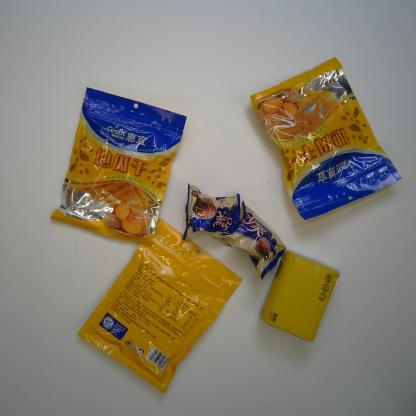Dessert: (223, 200, 287, 281), (181, 183, 240, 248)
Dried Fruit: (76, 217, 243, 395), (249, 56, 403, 221), (48, 87, 188, 248)
Tissue: (258, 247, 340, 343)
